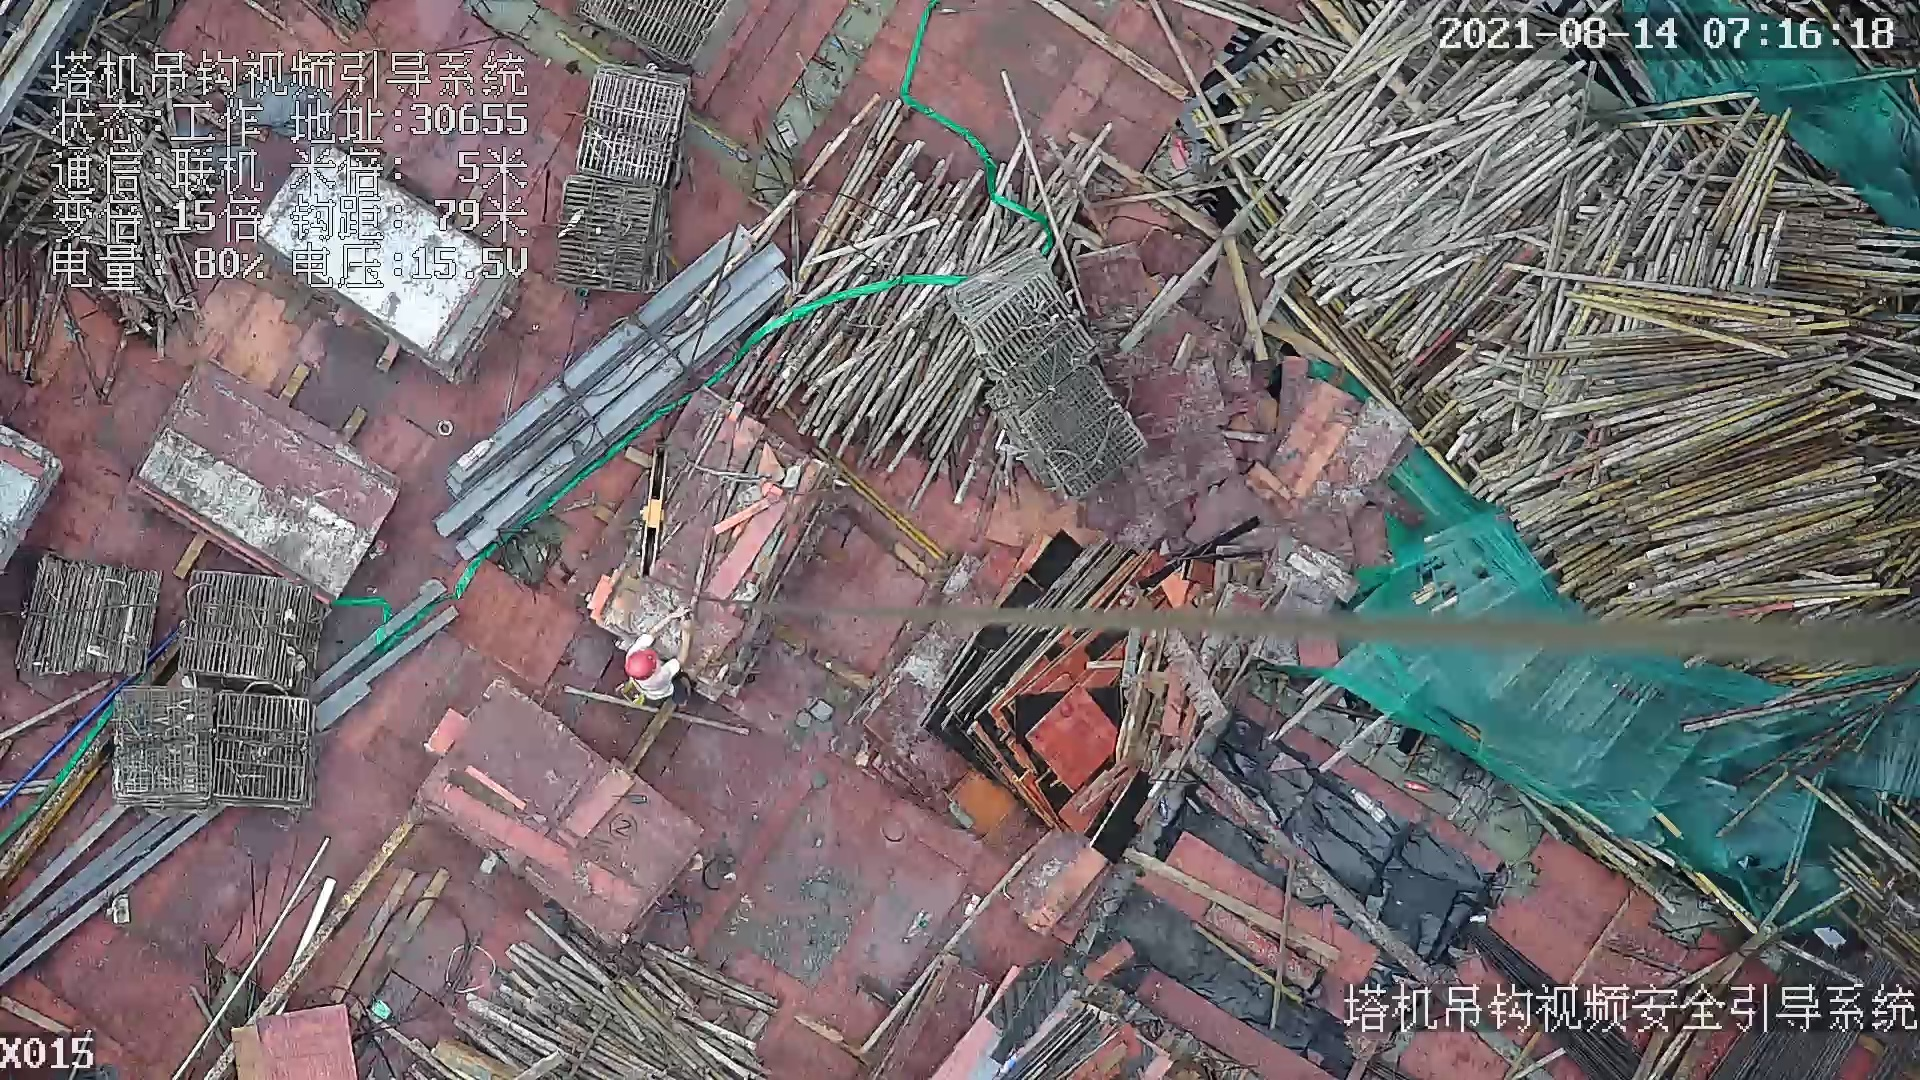helmet: (623, 646, 663, 686)
hook: (631, 441, 674, 576)
person: (628, 604, 696, 706)
